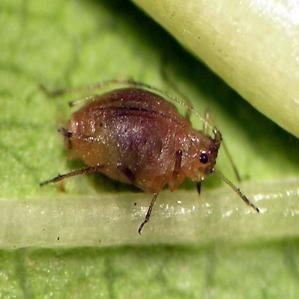Green peach aphid: (29, 40, 270, 251)
